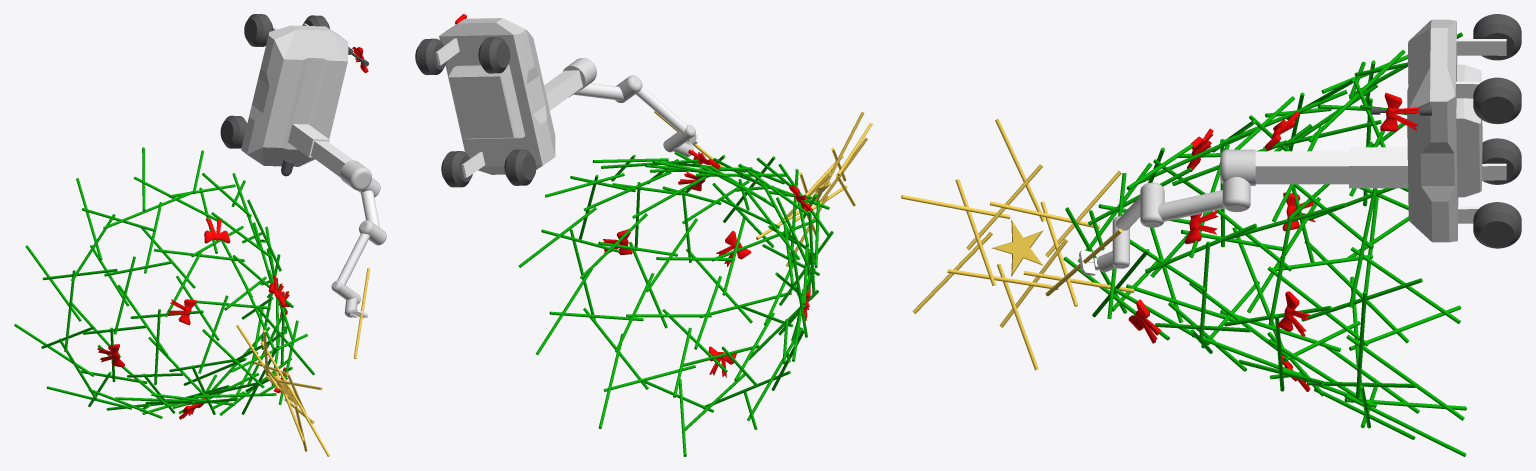
The model's file is tree_stix_v6.gltf.
The picture shows the model from 3 angles, left to right: view 1: azimuth 30°, elevation 25°; view 2: azimuth 150°, elevation 25°; view 3: azimuth 270°, elevation 25°; orthographic projection. The views are drawn at different scales.
Visible parts, largest first — view 1: object 30, object 14, Ribbon.01_ChristmasTree_0 (×2), object 15, object 21, object 13, object 28, object 9, object 10, object 11; view 2: object 30, object 26, object 28, object 21, object 14, object 29, object 22, object 9, object 11, object 13; view 3: object 30, object 14, object 26, object 15, Star_ChristmasTree_0 (×3), object 29, object 22, Ribbon.01_ChristmasTree_0 (×2), object 21, object 28, object 11, object 13 (+3 smaller).
Part boxes in pixels (box(x1,y1,x2,y2)): object 30: box(241, 25, 348, 166); object 14: box(311, 141, 352, 177); Ribbon.01_ChristmasTree_0 (×2): box(166, 218, 230, 325); object 15: box(288, 124, 329, 157); object 21: box(244, 14, 273, 46); object 13: box(340, 160, 371, 190); object 28: box(220, 115, 247, 148); object 9: box(337, 233, 369, 285); object 10: box(359, 220, 386, 245); object 11: box(361, 190, 379, 227); object 30: box(439, 18, 555, 174); object 26: box(448, 64, 525, 139); object 28: box(504, 149, 536, 185); object 21: box(478, 37, 510, 73); object 14: box(544, 70, 582, 110); object 29: box(441, 151, 472, 187); object 22: box(415, 38, 446, 75); object 9: box(635, 86, 687, 133); object 11: box(573, 83, 624, 100); object 13: box(563, 58, 596, 91); object 30: box(1407, 19, 1458, 242); object 14: box(1255, 151, 1348, 184); object 26: box(1456, 64, 1482, 197); object 15: box(1349, 147, 1408, 188); Star_ChristmasTree_0 (×3): box(991, 219, 1466, 456); object 29: box(1473, 202, 1521, 248); object 22: box(1473, 77, 1521, 124); Ribbon.01_ChristmasTree_0 (×2): box(1277, 92, 1420, 336); object 21: box(1473, 14, 1521, 60); object 28: box(1482, 138, 1521, 184); object 11: box(1158, 190, 1224, 221); object 13: box(1220, 149, 1255, 185).
Bounding box in the file's own units: 0.0238 × 0.024 × 0.0264.
7 materials, 1 textured.
